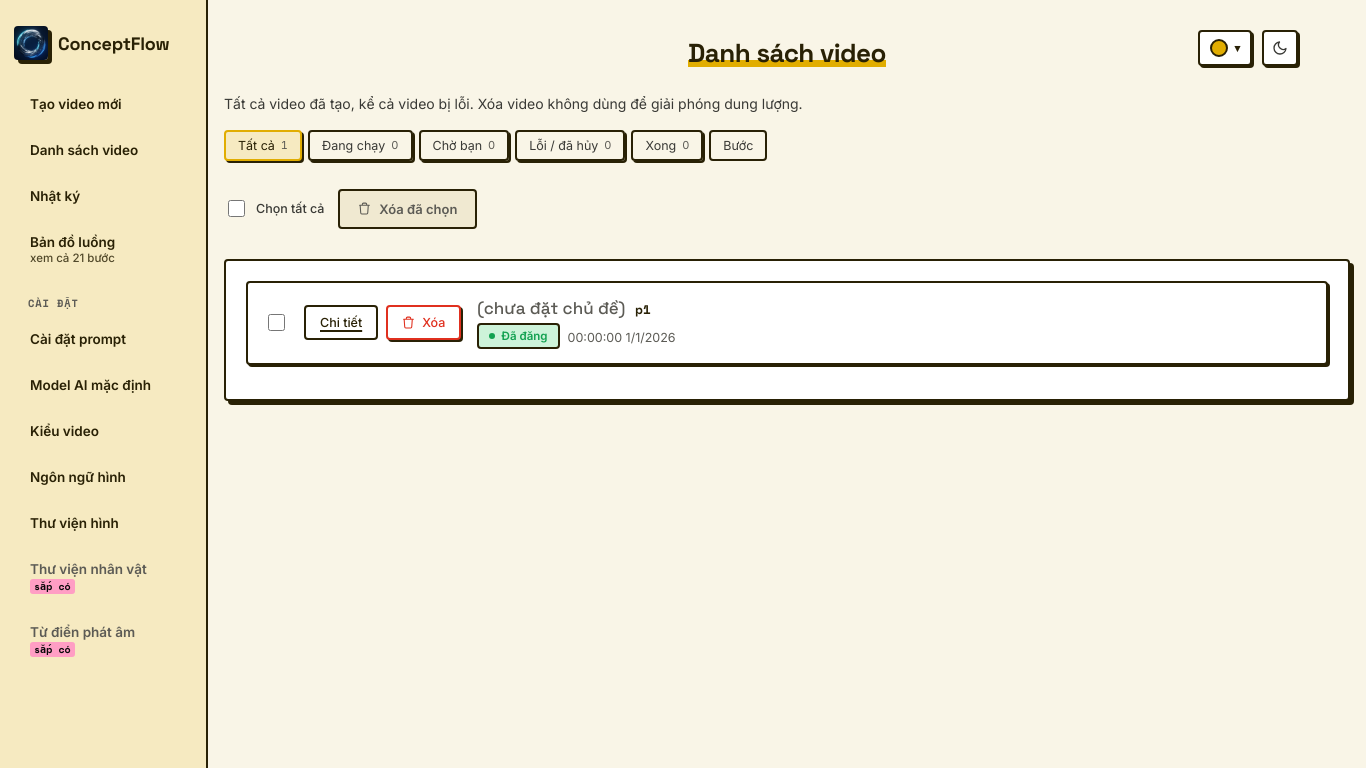
Test case: VideoListPage › keeps the row with a k/N progress card while the delete saga runs
Expected: the element with test id "video-row-p1" is shown, [246, 281, 1328, 365]
Click the button with test id "delete-button-p1".
click(424, 323)  # box [386, 305, 461, 340]
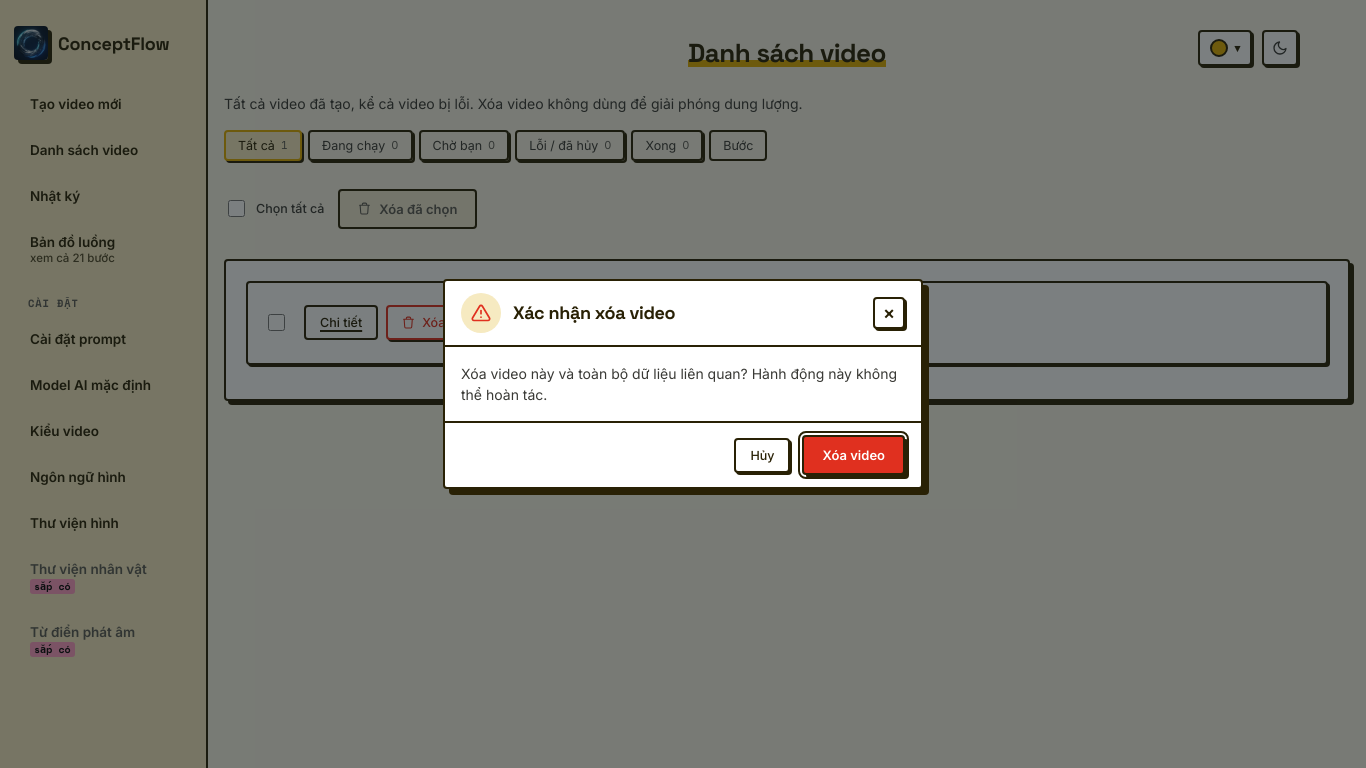
Click the button with test id "confirm-modal-confirm".
click(854, 455)  # box [802, 435, 905, 475]
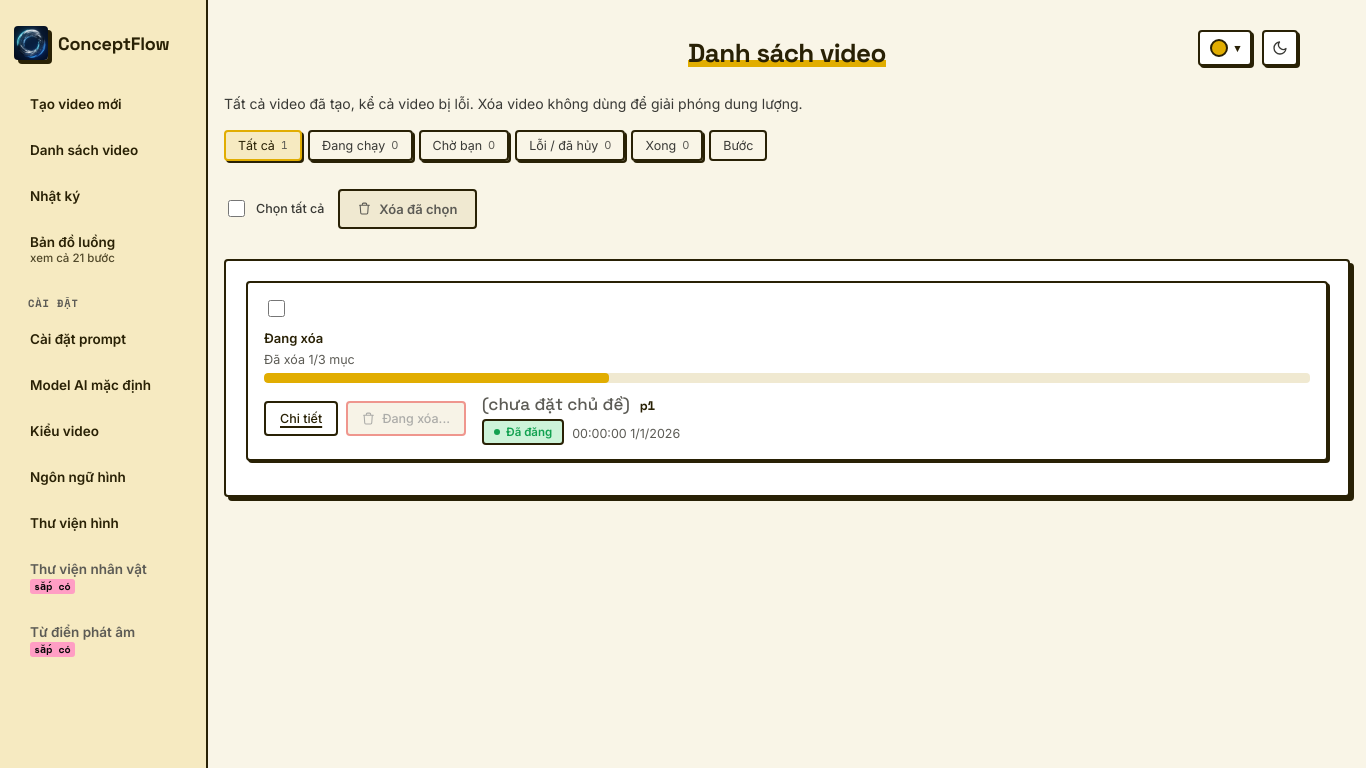
Expected: the element with test id "video-row-p1" is shown, [246, 281, 1328, 461]
Result: the text "Đã xóa 1/3 mục" is shown at [264, 352, 355, 367]
